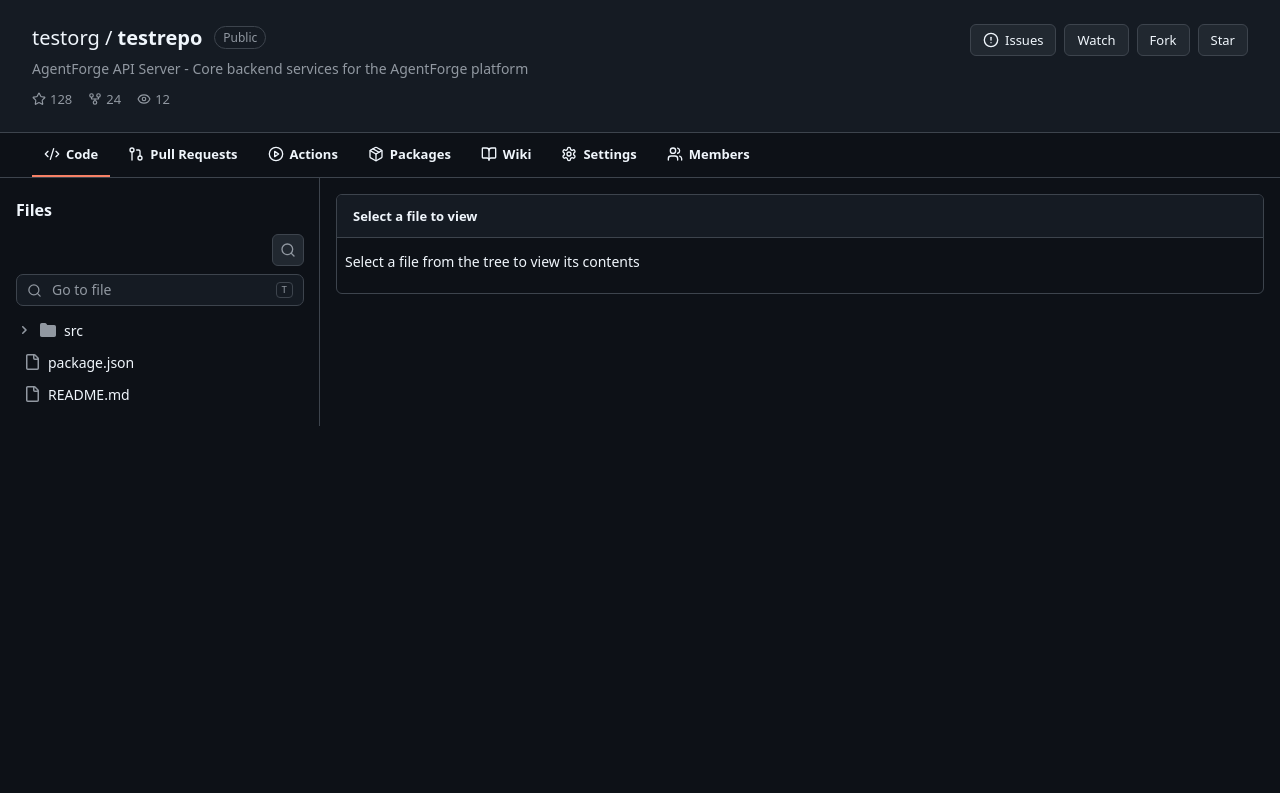
Scenario: RepositoryDetailPage - Pull Requests Tab › switches to Pull Requests tab when clicked
expect the heading "Files" is shown: met, box x1=16 y1=199 x2=52 y2=221
Click the tab "Pull Requests" at point(183, 155), box x1=116 y1=133 x2=250 y2=177
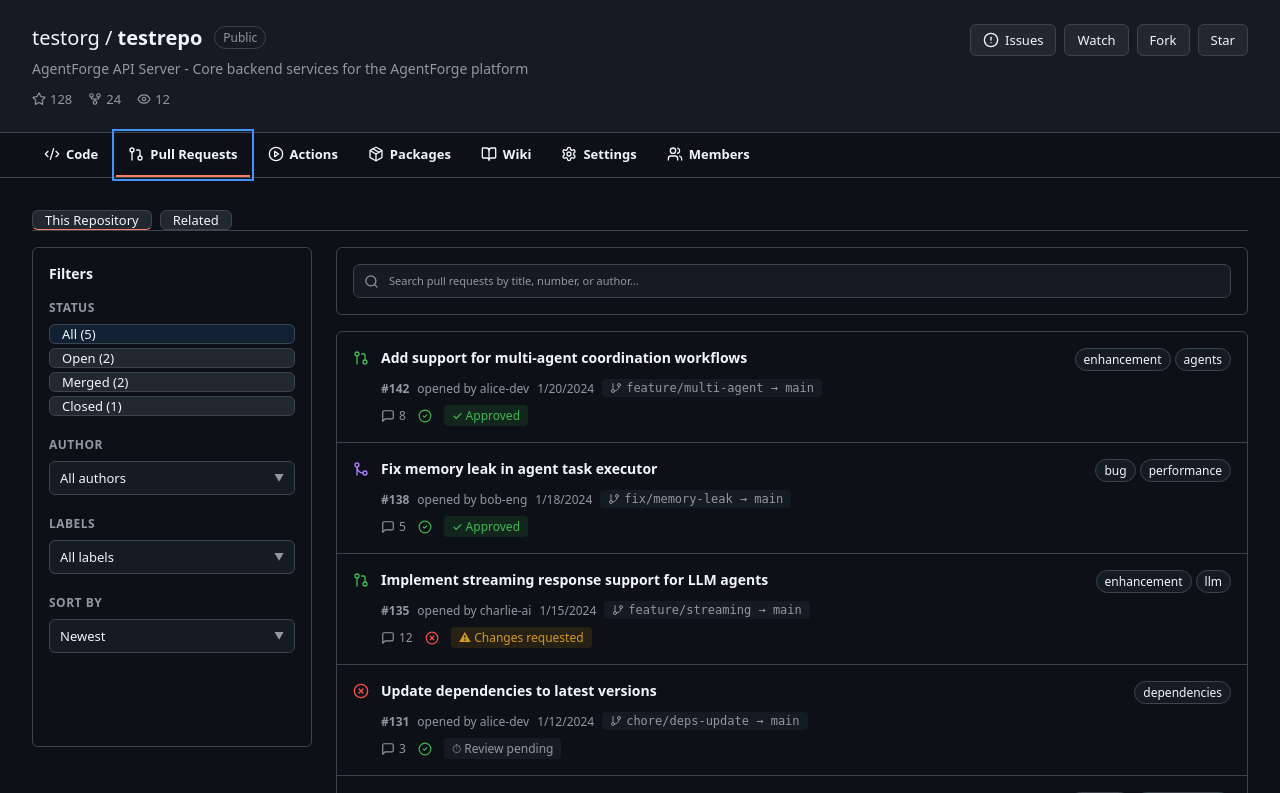
expect the button "This Repository" is shown: met, box x1=32 y1=210 x2=152 y2=230
expect the button "Related" is shown: met, box x1=160 y1=210 x2=232 y2=230
expect the heading "Filters" is shown: met, box x1=49 y1=264 x2=93 y2=283
